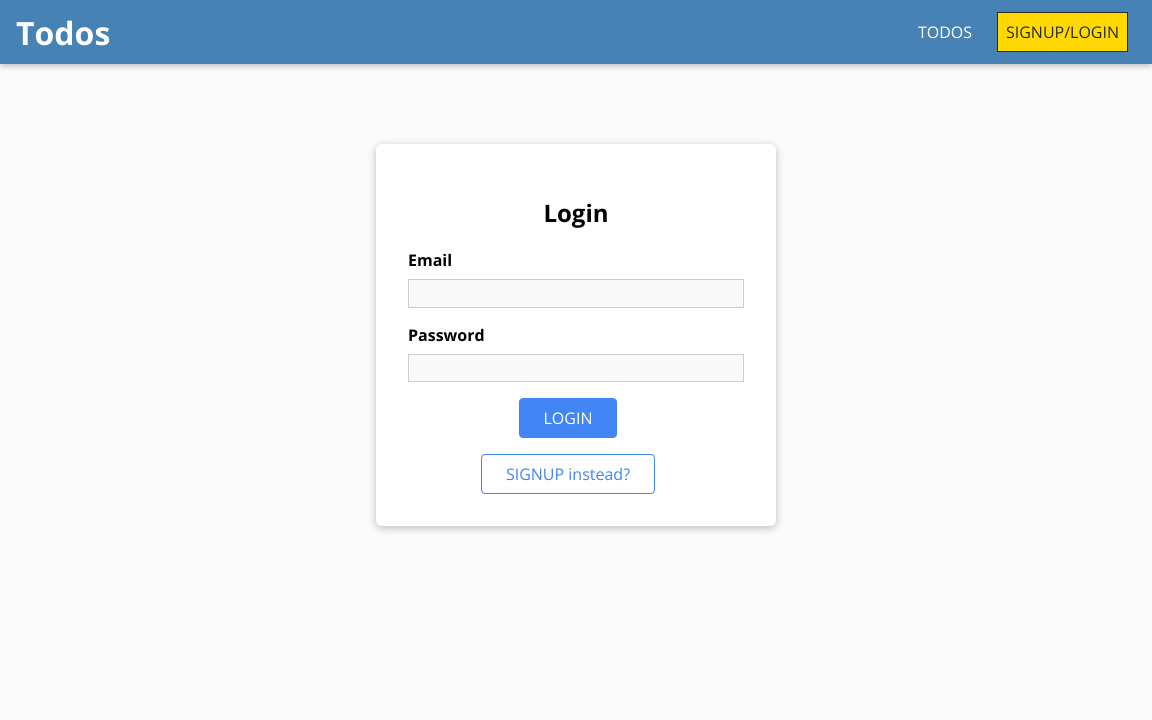
The Authentication page › should allow switching between SIGNUP and LOGIN
Click the button "SIGNUP instead?".
click(568, 474)  # box [481,454,655,494]
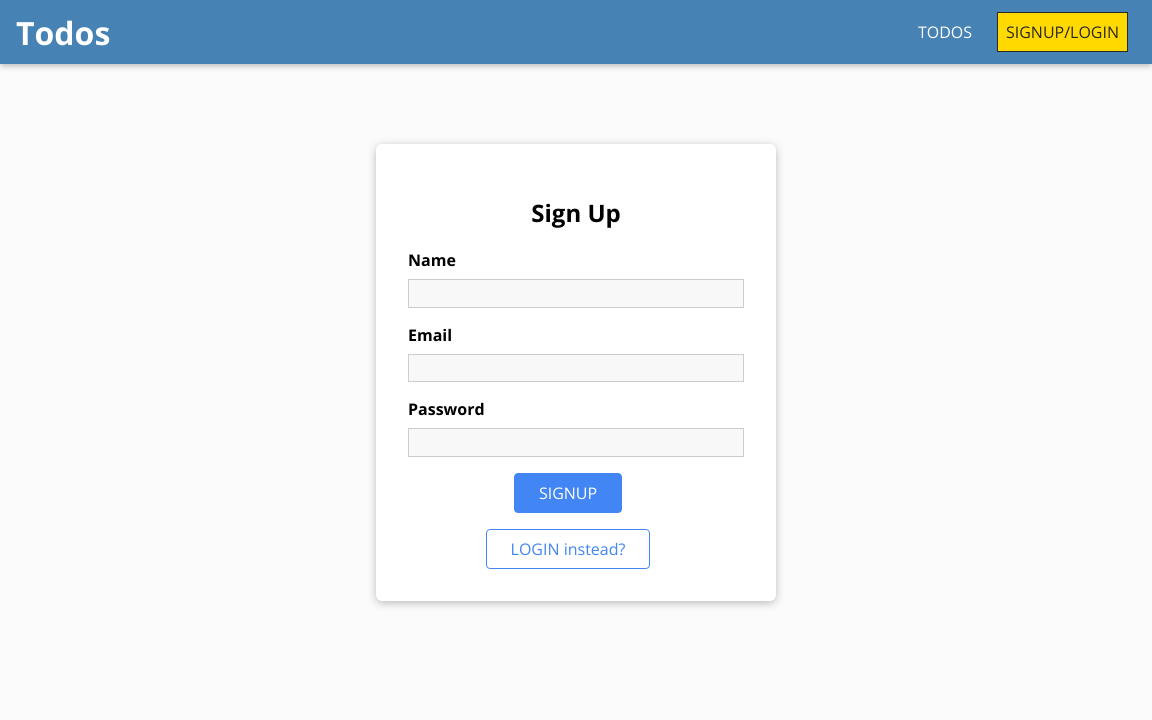
Expected: the button "SIGNUP instead?" no longer shows "SIGNUP instead?"
Click the button "LOGIN instead?".
click(569, 549)  # box [486,529,651,569]
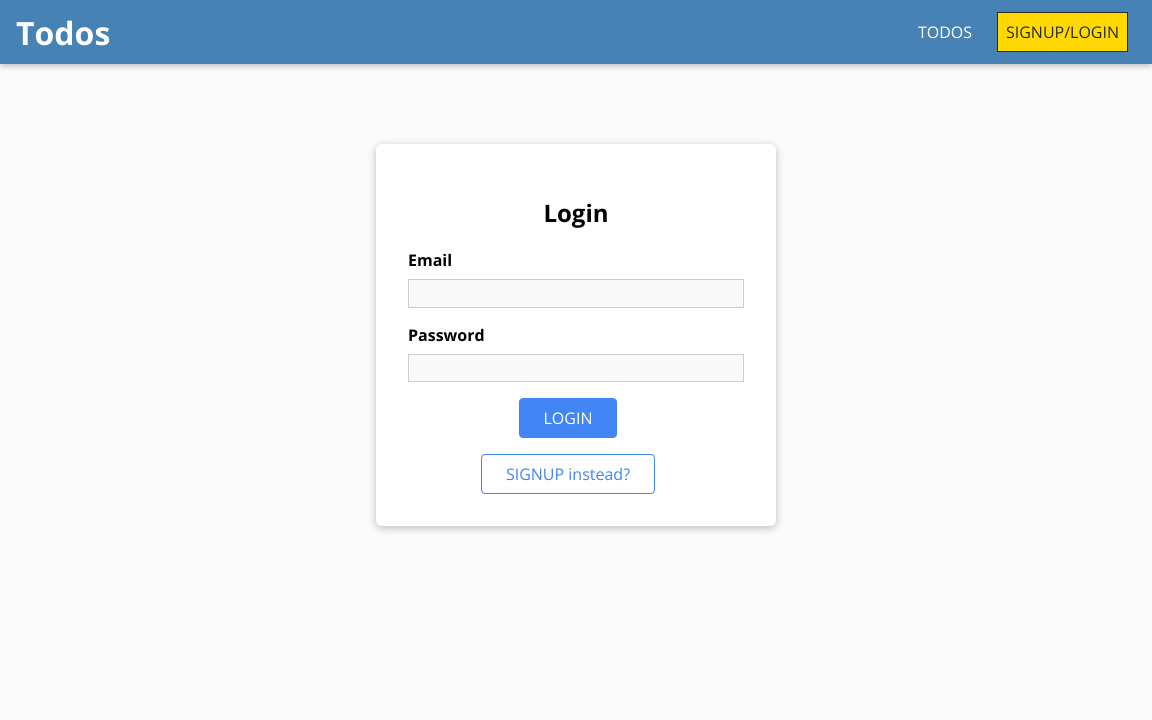
Expected: the button "LOGIN instead?" no longer shows "LOGIN instead?"
